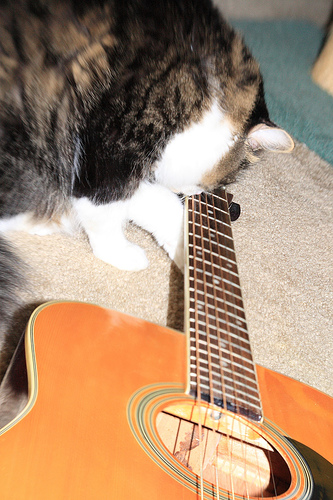guitar: (1, 179, 333, 500)
